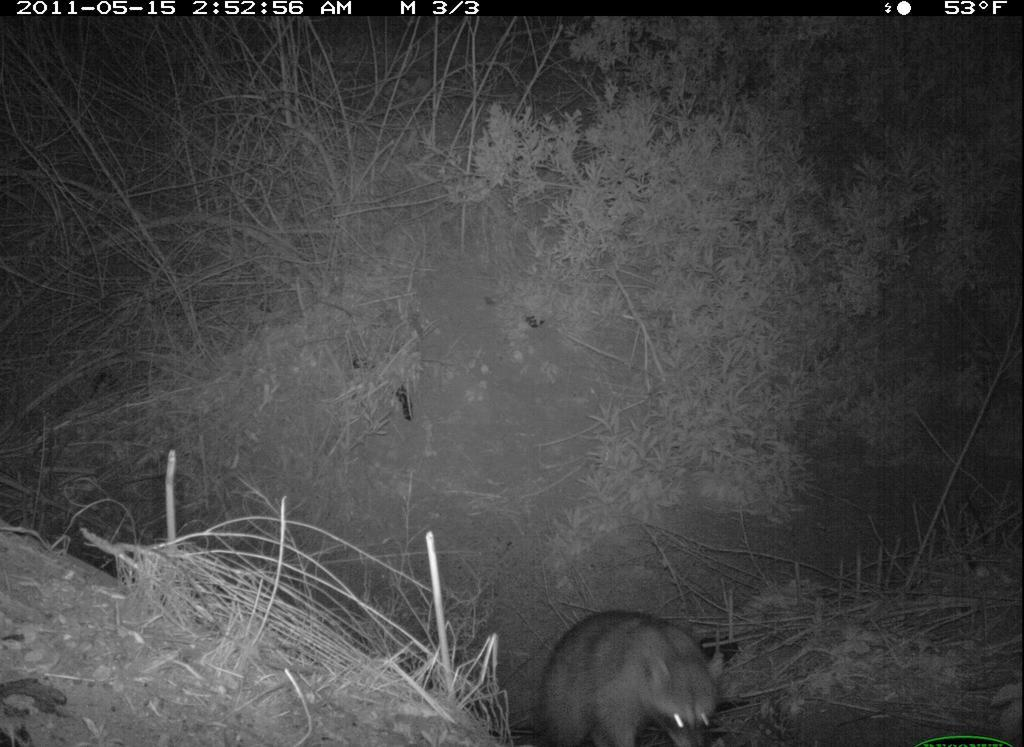raccoon: (533, 605, 731, 747)
